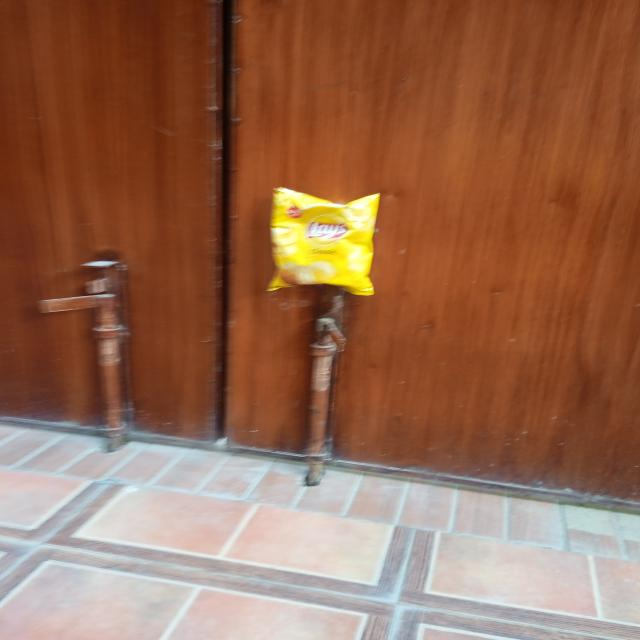Plastic: (270, 191, 376, 294)
